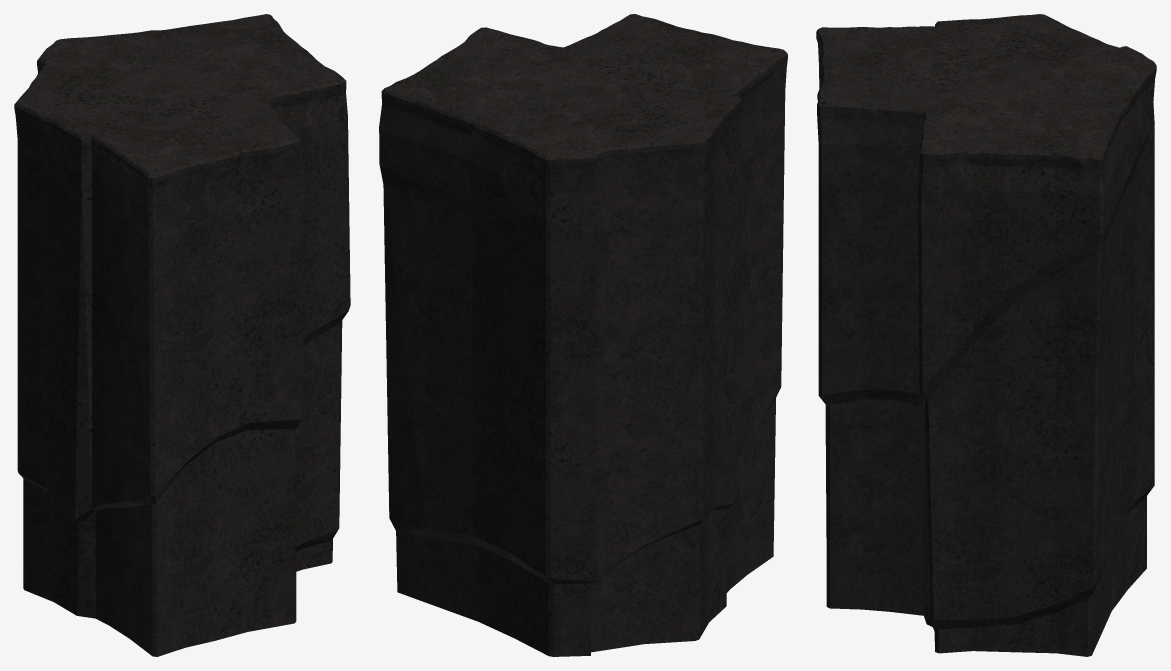
Rendered from TrapFloorM02.fbx.
The picture shows the model from 3 angles, left to right: view 1: azimuth 30°, elevation 25°; view 2: azimuth 150°, elevation 25°; view 3: azimuth 270°, elevation 25°; orthographic projection. The views are drawn at different scales.
Parts seen in each view (by area): view 1: SM_ENV_NATURE_Cave_SinkingFloor_01.mo; view 2: SM_ENV_NATURE_Cave_SinkingFloor_01.mo; view 3: SM_ENV_NATURE_Cave_SinkingFloor_01.mo.
Part boxes in pixels (x1,y1,x2,y2): SM_ENV_NATURE_Cave_SinkingFloor_01.mo: [14, 14, 350, 656]; SM_ENV_NATURE_Cave_SinkingFloor_01.mo: [379, 14, 787, 656]; SM_ENV_NATURE_Cave_SinkingFloor_01.mo: [816, 14, 1156, 656].
Size of the model in its own units: 308 by 502 by 306.
2 materials, 2 textured.
